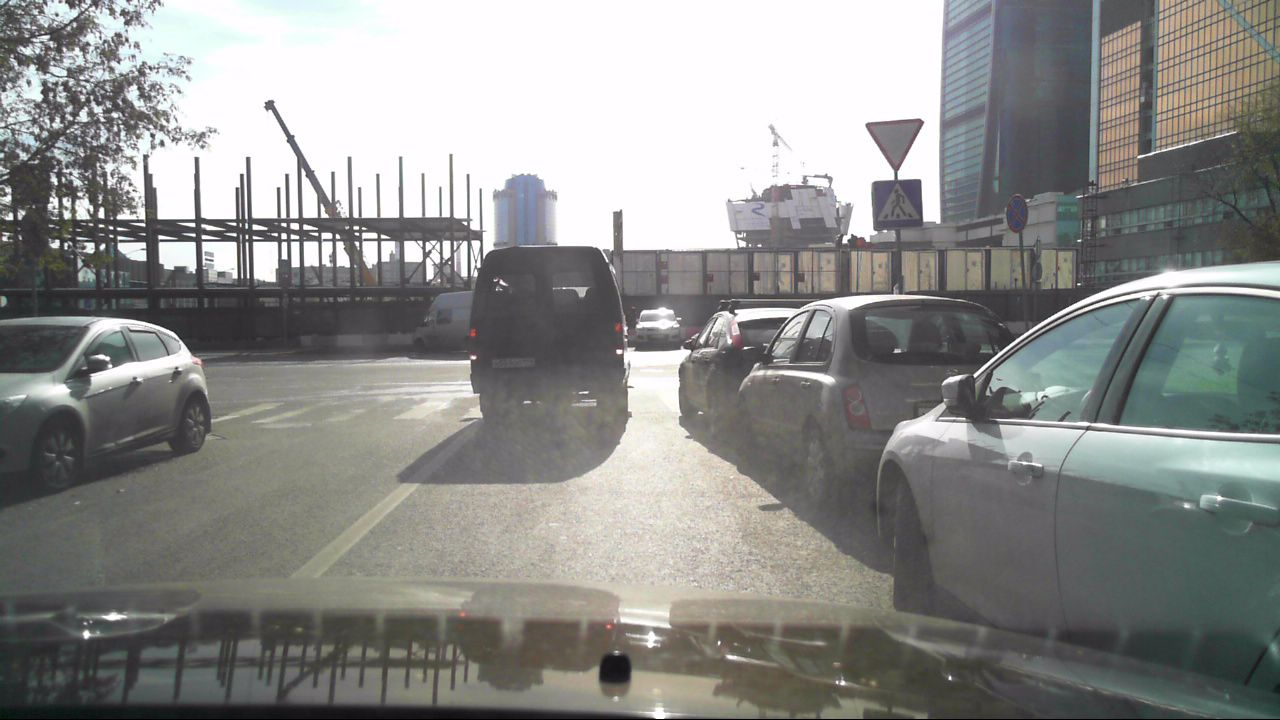No Parking: (1005, 195, 1030, 235)
